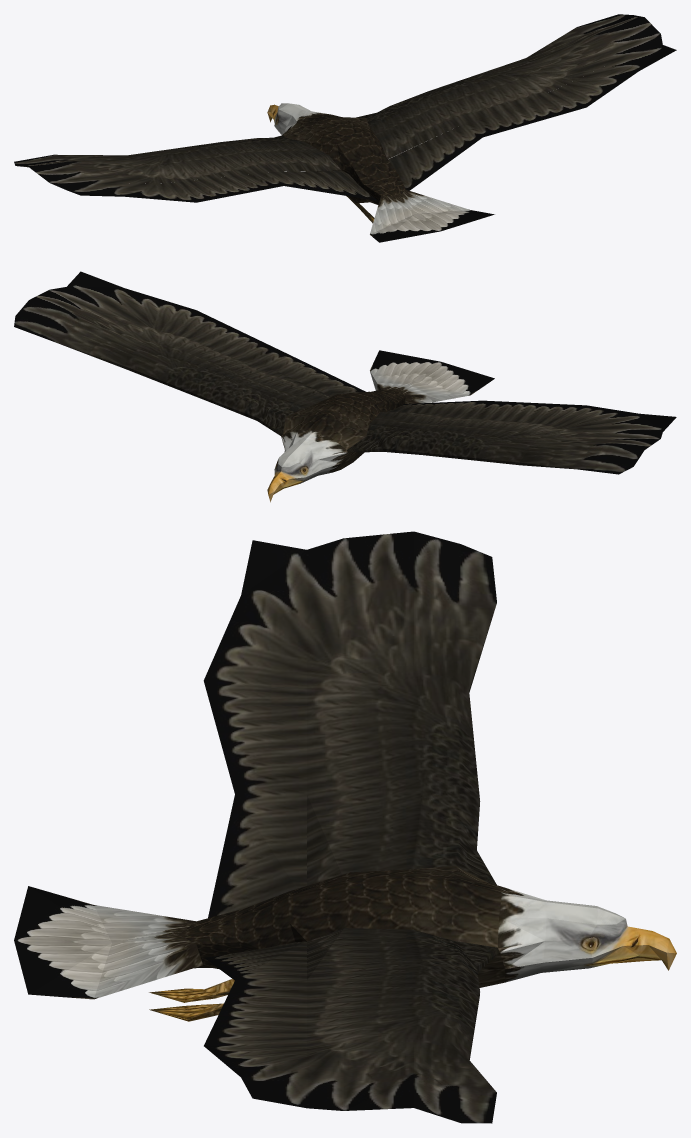
Rendered from 01EV0AYW7ICJBYVDQ8MDV7UV8.glb.
The picture shows the model from 3 angles, top to bottom: view 1: azimuth 30°, elevation 25°; view 2: azimuth 150°, elevation 25°; view 3: azimuth 270°, elevation 25°; orthographic projection. The views are drawn at different scales.
Bounding box in the file's own units: 2.5 × 0.3876 × 1.21.
Materials: 1 (1 with a texture image).
